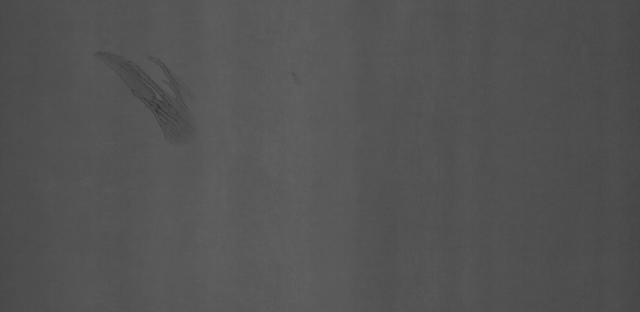water_spot: (85, 46, 199, 149)
